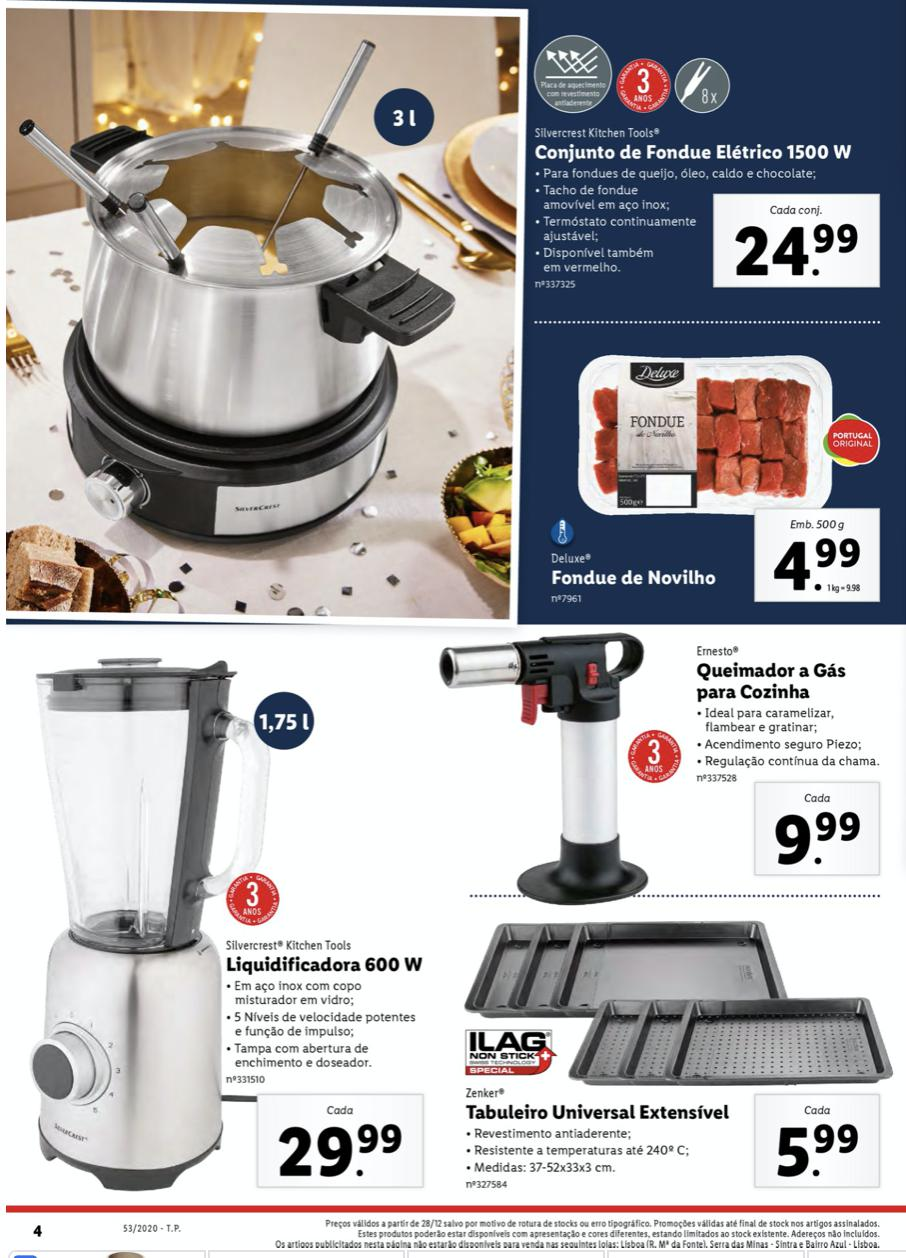name: (465, 1100, 738, 1128), (532, 140, 862, 162), (688, 661, 851, 705), (224, 951, 432, 978), (551, 567, 721, 592)
price: (271, 1120, 415, 1187), (721, 219, 867, 281), (770, 806, 871, 870), (770, 1117, 865, 1181), (774, 539, 870, 597)
product: (12, 9, 890, 308), (21, 645, 435, 1200), (428, 623, 892, 892), (449, 919, 896, 1192), (545, 337, 888, 614)
